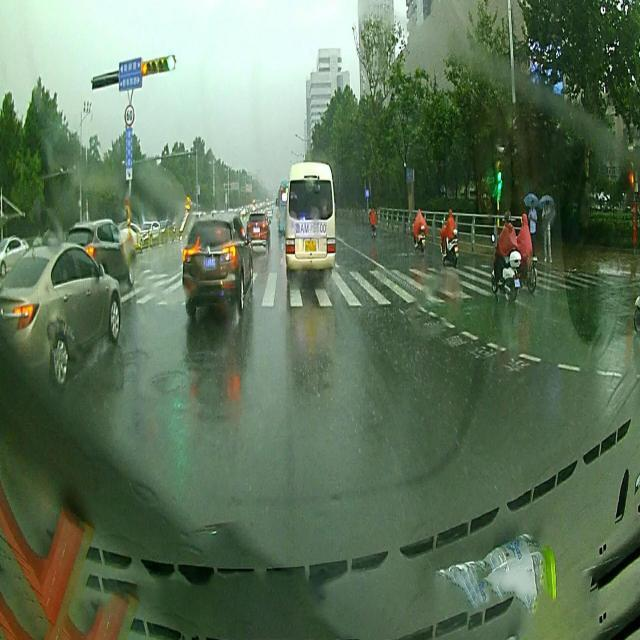car: (0, 244, 120, 386), (180, 217, 254, 315), (66, 218, 138, 290), (245, 212, 271, 248)
